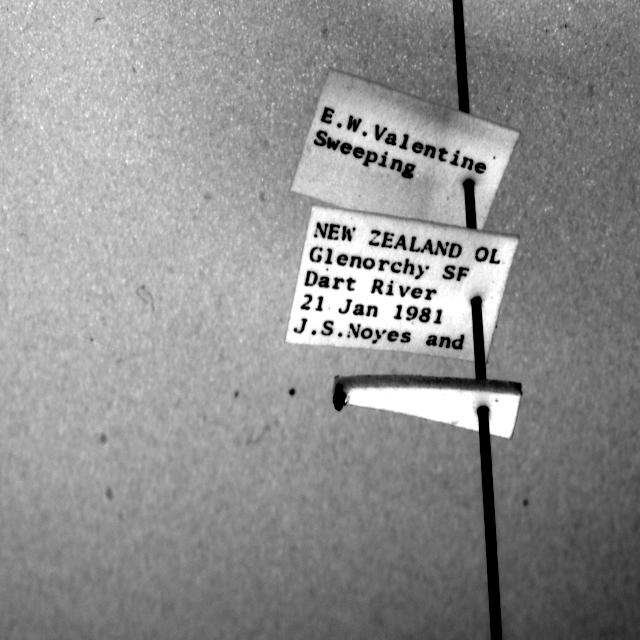typed_label: (291, 69, 519, 229), (286, 206, 518, 360)
